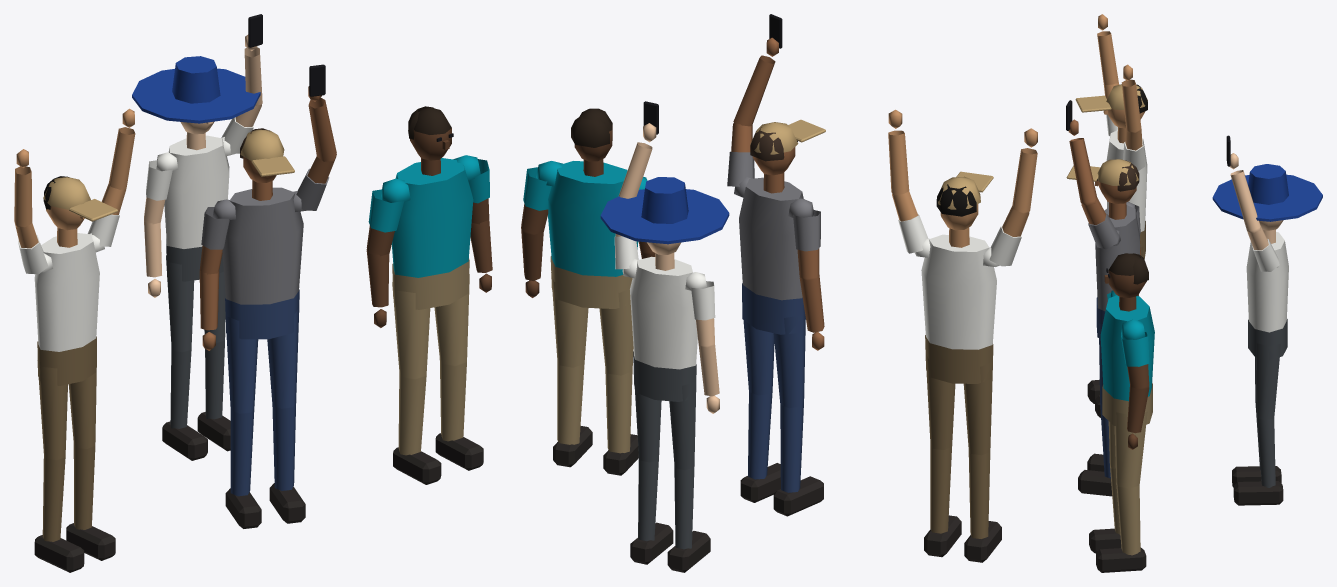
File: crowd_c.dae
The picture shows the model from 3 angles, left to right: view 1: azimuth 30°, elevation 25°; view 2: azimuth 150°, elevation 25°; view 3: azimuth 270°, elevation 25°; orthographic projection. The views are drawn at different scales.
Visible parts, largest first — view 1: marker; view 2: marker; view 3: marker.
Boxes of the visible parts, x1,y1,x2,y2 form: marker: [14, 14, 492, 572]; marker: [521, 14, 1037, 572]; marker: [1066, 14, 1322, 572].
Bounding box in the file's own units: 2.39 × 1.26 × 2.13.
1 material, 1 textured.
